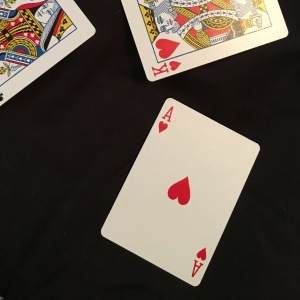card: (97, 96, 260, 290)
